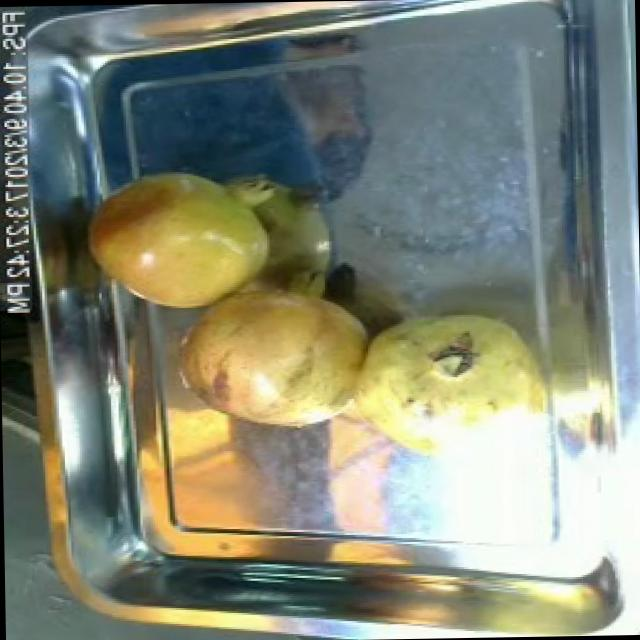fruit: (162, 259, 386, 439), (342, 294, 566, 472), (77, 156, 286, 318)
